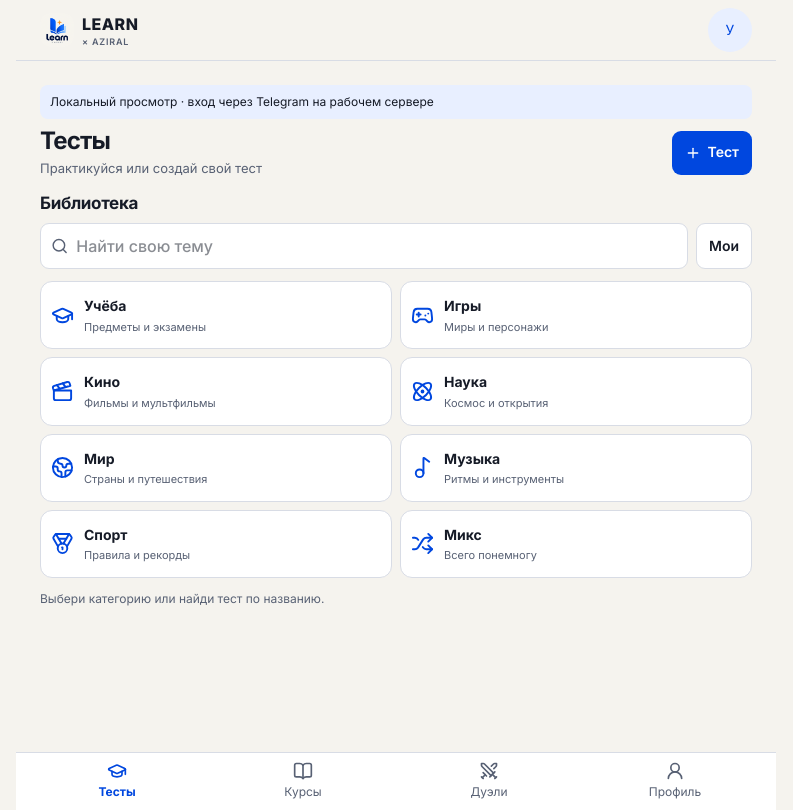
returns from a lesson quiz result to the same course lesson
Click the button "Курсы" at x=303, y=780, box left=210, top=757, right=396, bottom=804
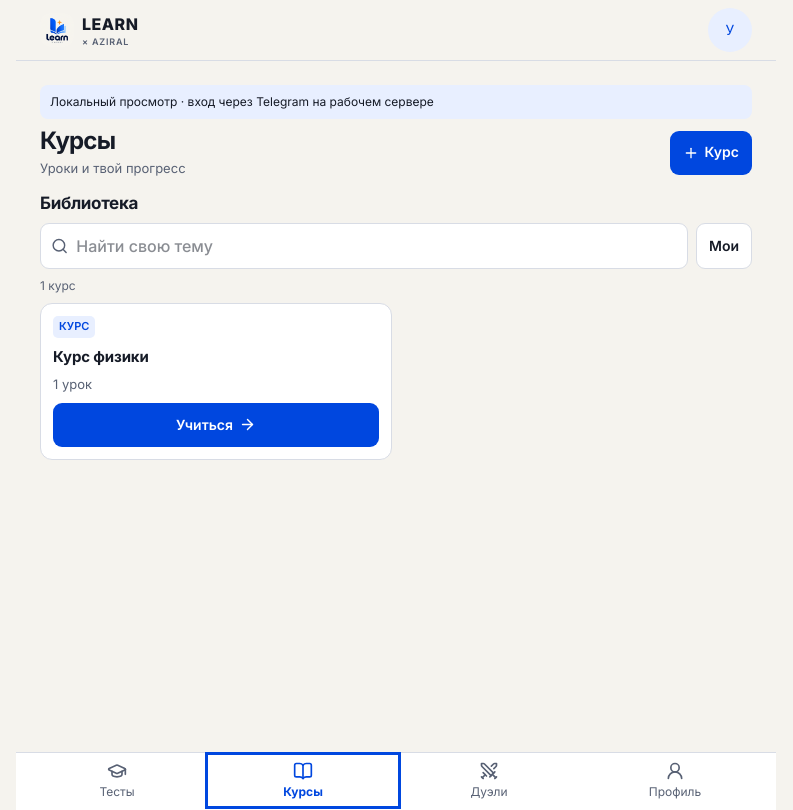
Click the button "Учиться" at x=216, y=425, box left=53, top=403, right=379, bottom=447
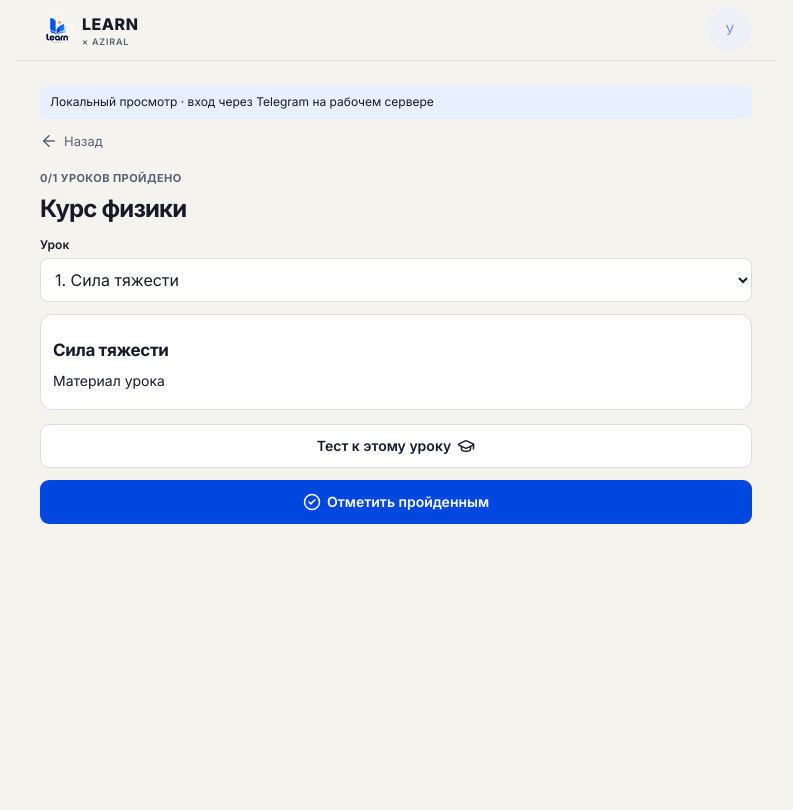
Click the button "Тест к этому уроку" at x=396, y=446, box left=40, top=424, right=752, bottom=468
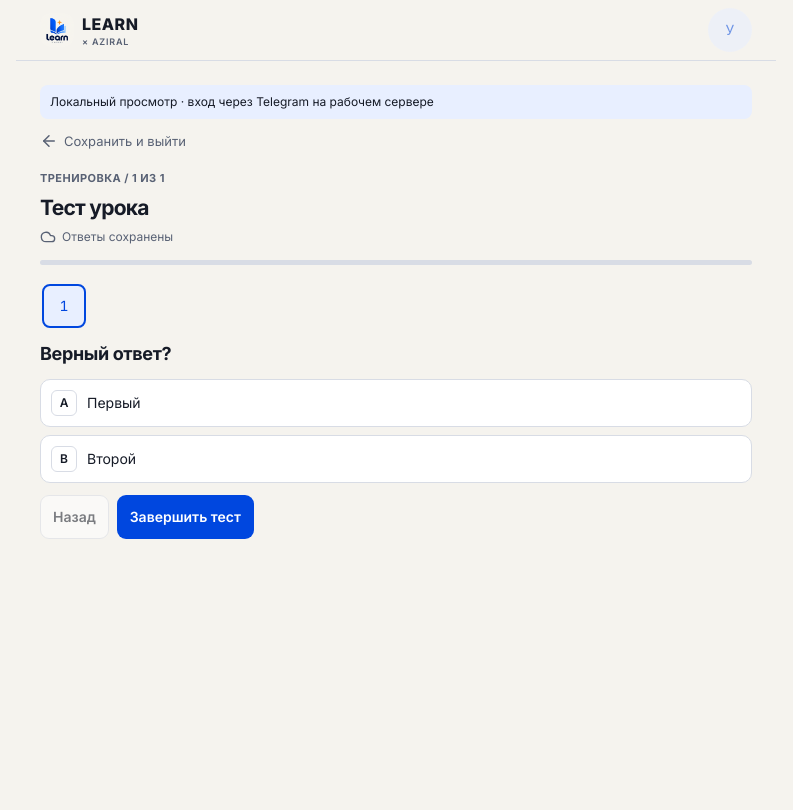
Click the button "A Первый" at x=114, y=402, box left=40, top=379, right=752, bottom=427
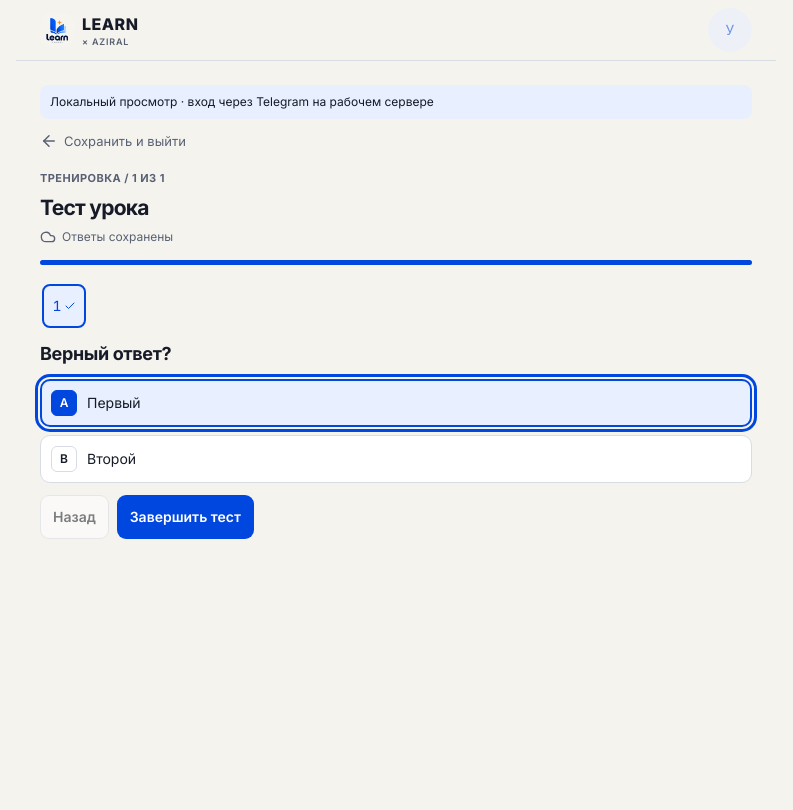
Click the button "Завершить тест" at x=185, y=517, box left=117, top=495, right=254, bottom=539
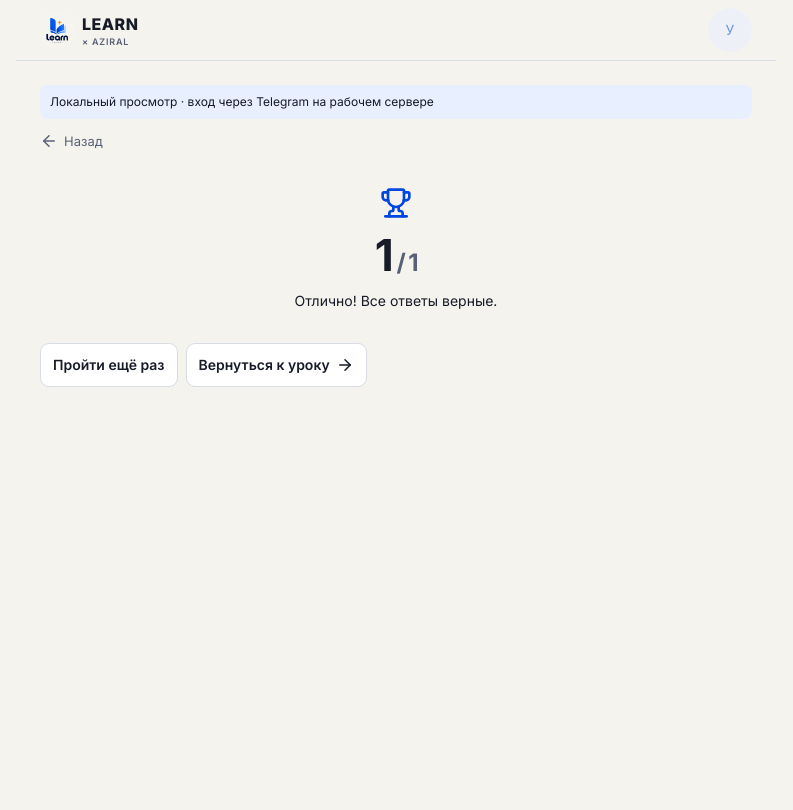
Click the button "Вернуться к уроку" at x=276, y=365, box left=186, top=343, right=367, bottom=387
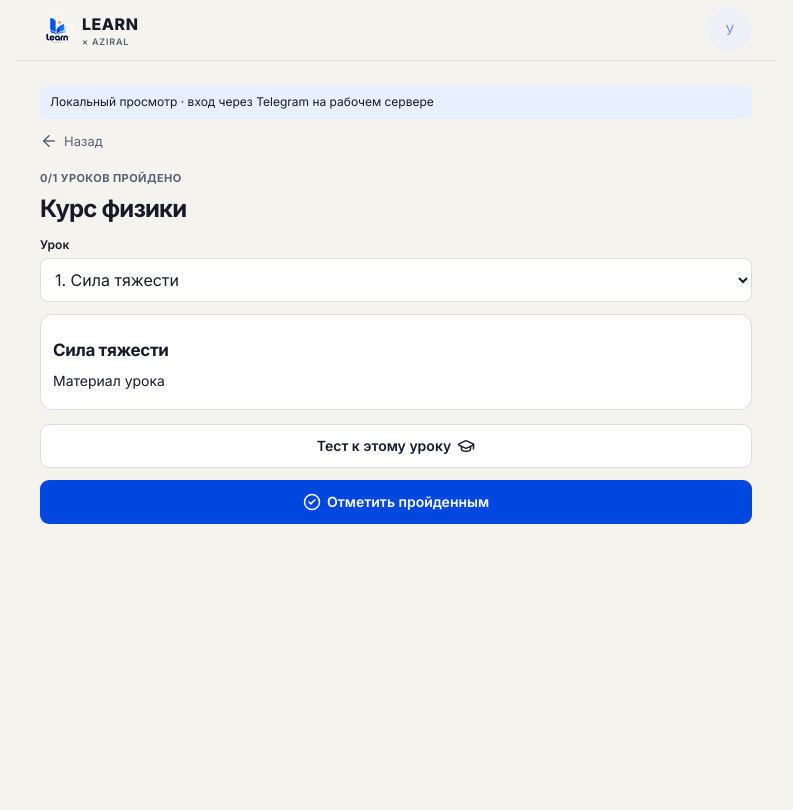
Expected: the heading "Сила тяжести" is shown, left=53, top=340, right=169, bottom=360
Expected: the text "Материал урока" is shown, left=53, top=372, right=165, bottom=389
